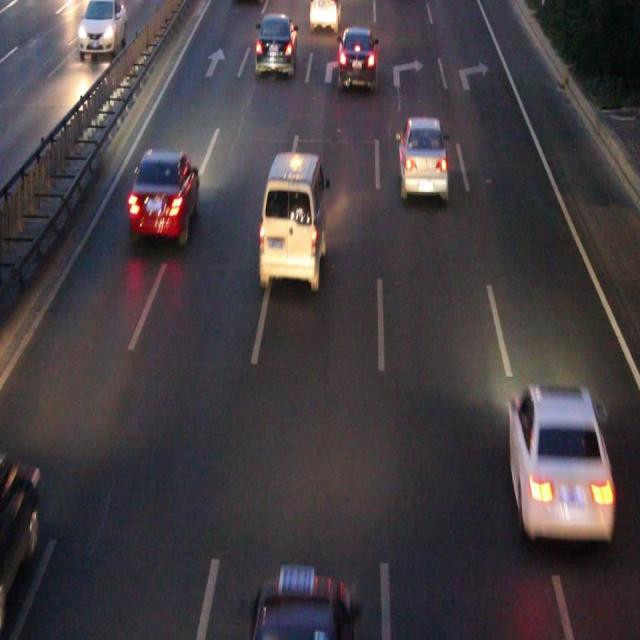car: (507, 388, 611, 539), (130, 154, 197, 236), (396, 118, 446, 196), (336, 28, 376, 86), (255, 16, 294, 74)
truck: (258, 152, 324, 281), (308, 1, 338, 30)
